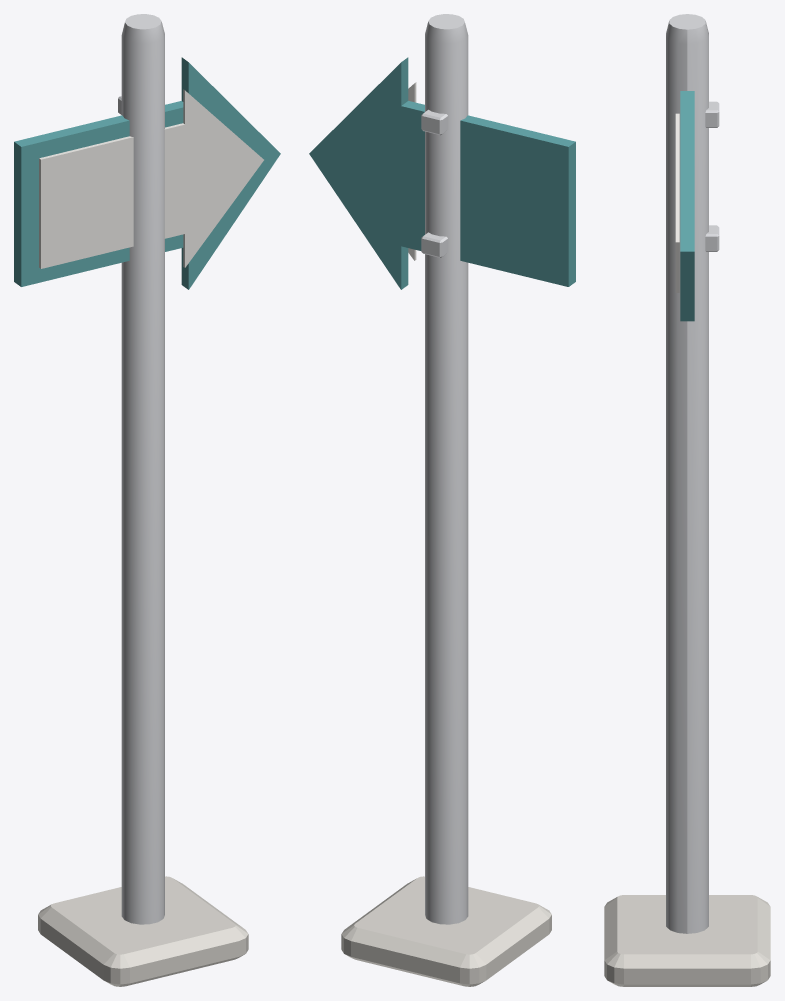
Rendered from fast-food-and-drive-thru-lane-directional-sign-2710907f__16201.glb.
3 renders of one model, left to right at view 1: azimuth 30°, elevation 25°; view 2: azimuth 150°, elevation 25°; view 3: azimuth 270°, elevation 25°, orthographic.
Parts seen in each view (by area): view 1: lane-directional-sign; view 2: lane-directional-sign; view 3: lane-directional-sign.
Part boxes in pixels (bbox=[...]): lane-directional-sign: bbox=[14, 14, 280, 986]; lane-directional-sign: bbox=[309, 14, 575, 986]; lane-directional-sign: bbox=[604, 14, 770, 986].
Size of the model in its own units: 0.62 by 2.11 by 0.34.
